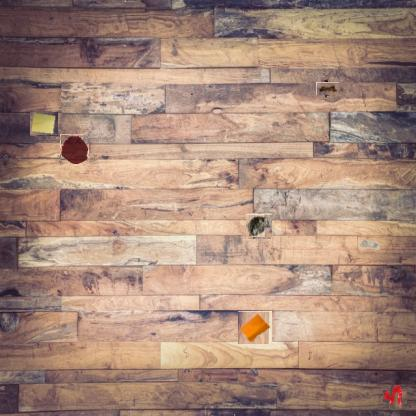dirty: (239, 311, 272, 345), (30, 112, 58, 136), (247, 214, 272, 238), (357, 236, 381, 250), (319, 79, 336, 98)
liquid: (60, 134, 88, 164), (386, 387, 404, 407)
